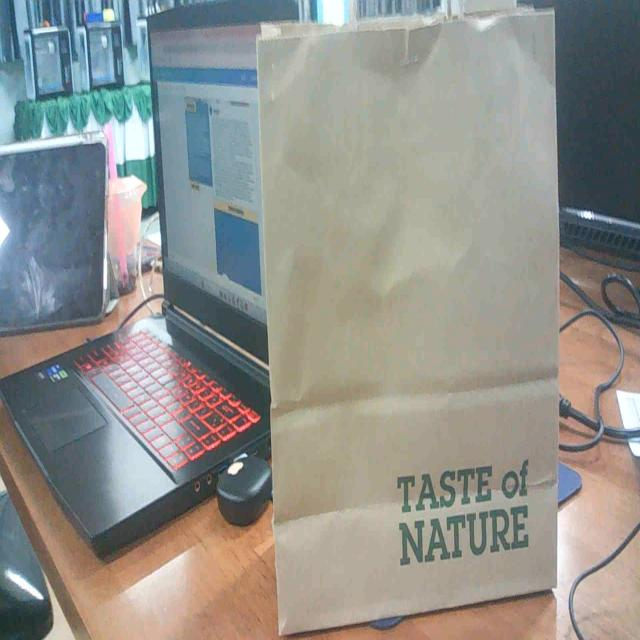bag: (245, 0, 575, 618)
